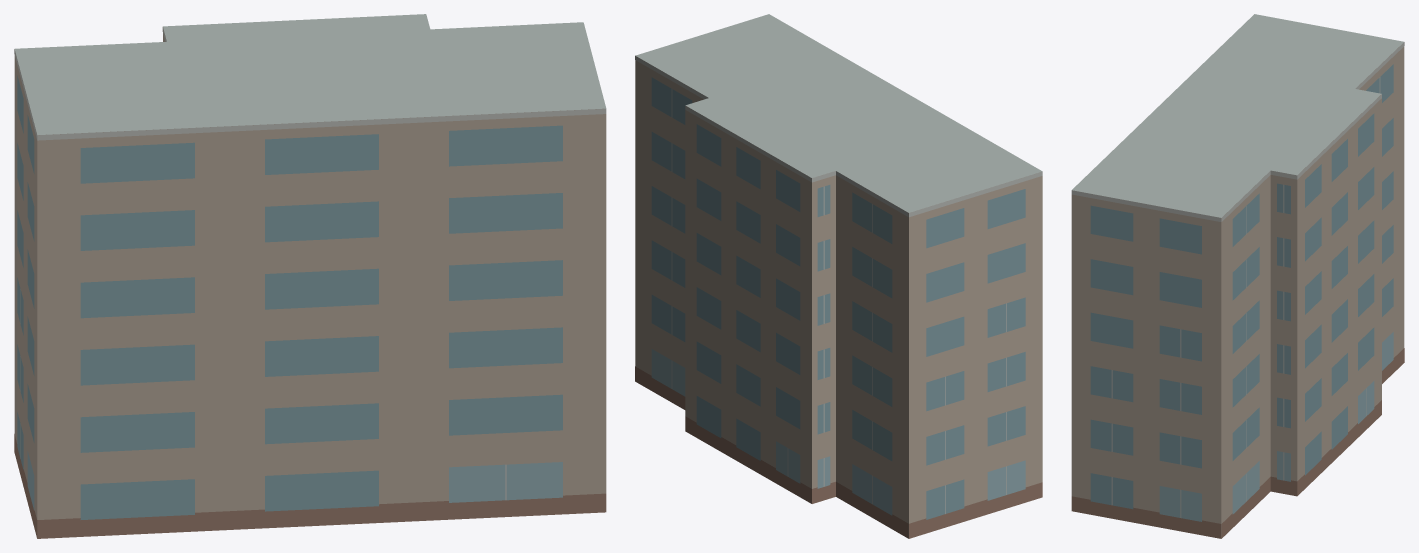
The model's file is survey-upis-32758655.glb.
The picture shows the model from 3 angles, left to right: view 1: azimuth 30°, elevation 25°; view 2: azimuth 150°, elevation 25°; view 3: azimuth 270°, elevation 25°; orthographic projection. The views are drawn at different scales.
Visible parts, largest first — view 1: survey-upis-32758655.tmp; view 2: survey-upis-32758655.tmp; view 3: survey-upis-32758655.tmp.
Boxes of the visible parts, box(x1,y1,x2,y2) form: survey-upis-32758655.tmp: box(14, 14, 606, 538); survey-upis-32758655.tmp: box(635, 14, 1042, 538); survey-upis-32758655.tmp: box(1071, 14, 1404, 538).
Bounding box in the file's own units: 24.94 × 18.3 × 17.21.
